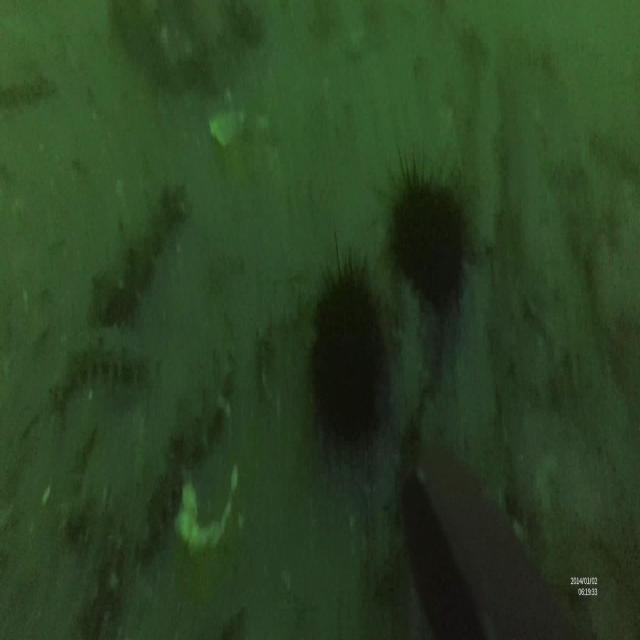echinus: (308, 226, 384, 452), (384, 150, 476, 308)
holothurian: (134, 348, 232, 562), (87, 184, 183, 328), (46, 326, 150, 414)
